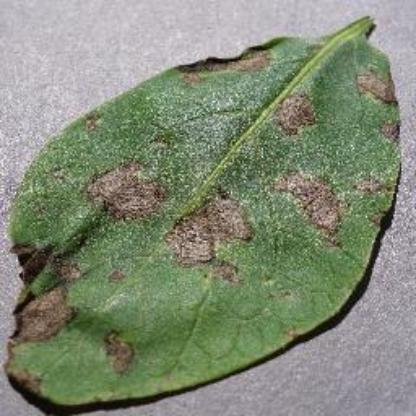Early-Blight: (5, 10, 413, 412)
